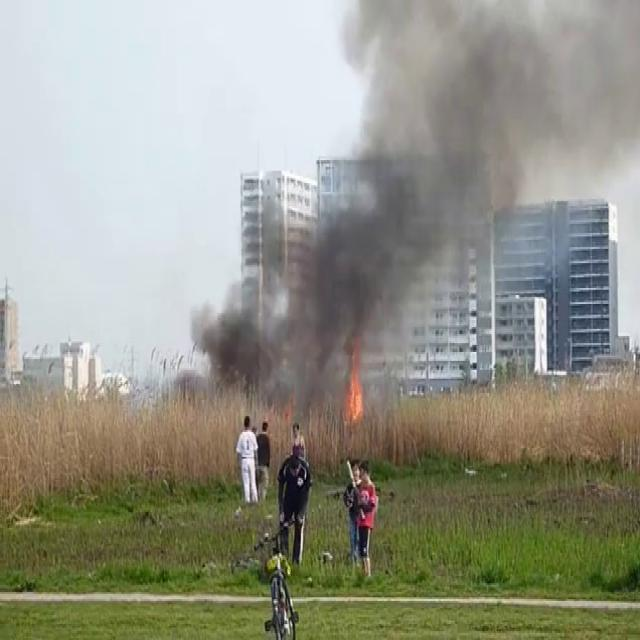Fire: (342, 354, 368, 432)
Smoke: (223, 0, 640, 398)
